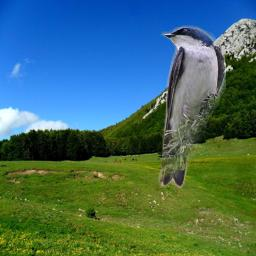Swallow: (156, 25, 226, 188)
